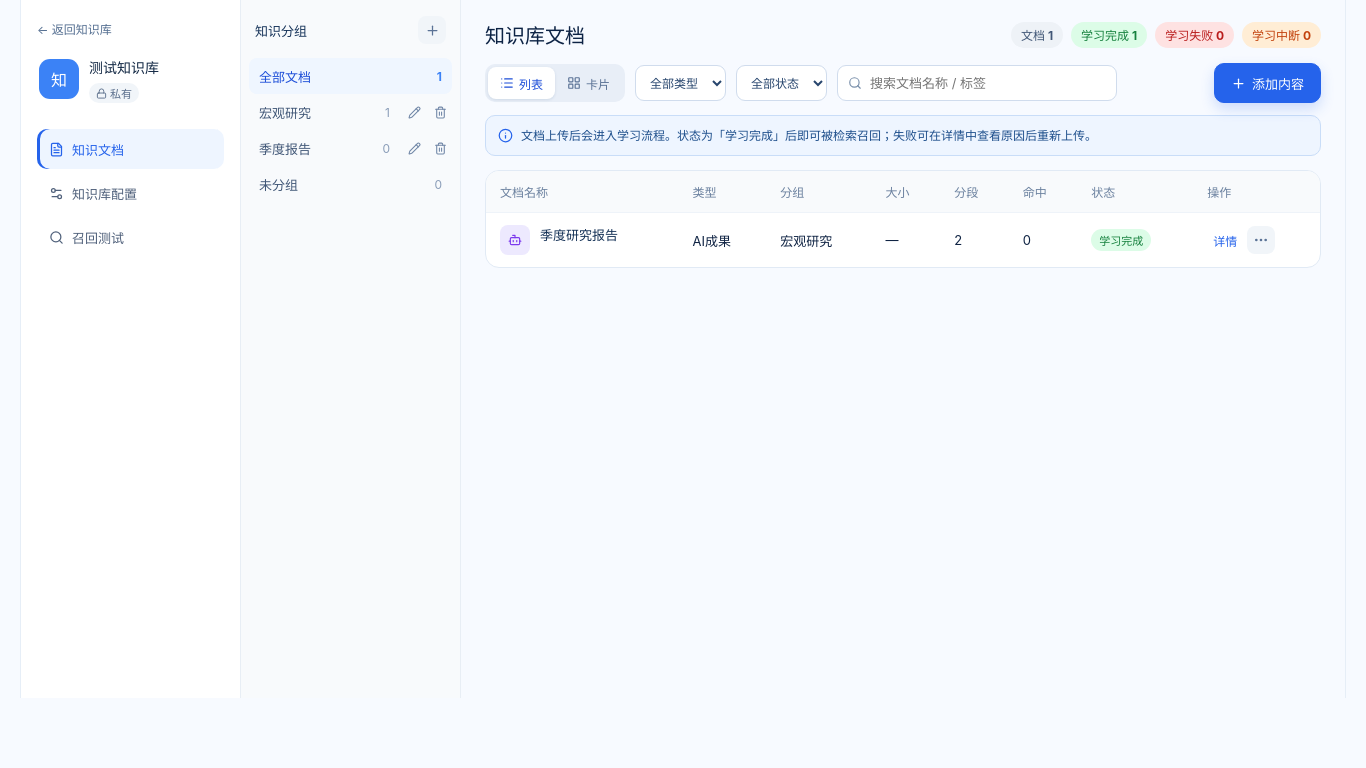
知识库自主分组 › 保存失败显示错误并保留输入，允许用户重试
expect the heading "知识库文档" is shown: met, box [485,20,585,49]
Click the button named "添加分组".
click(432, 30)  # box [418,16,446,44]
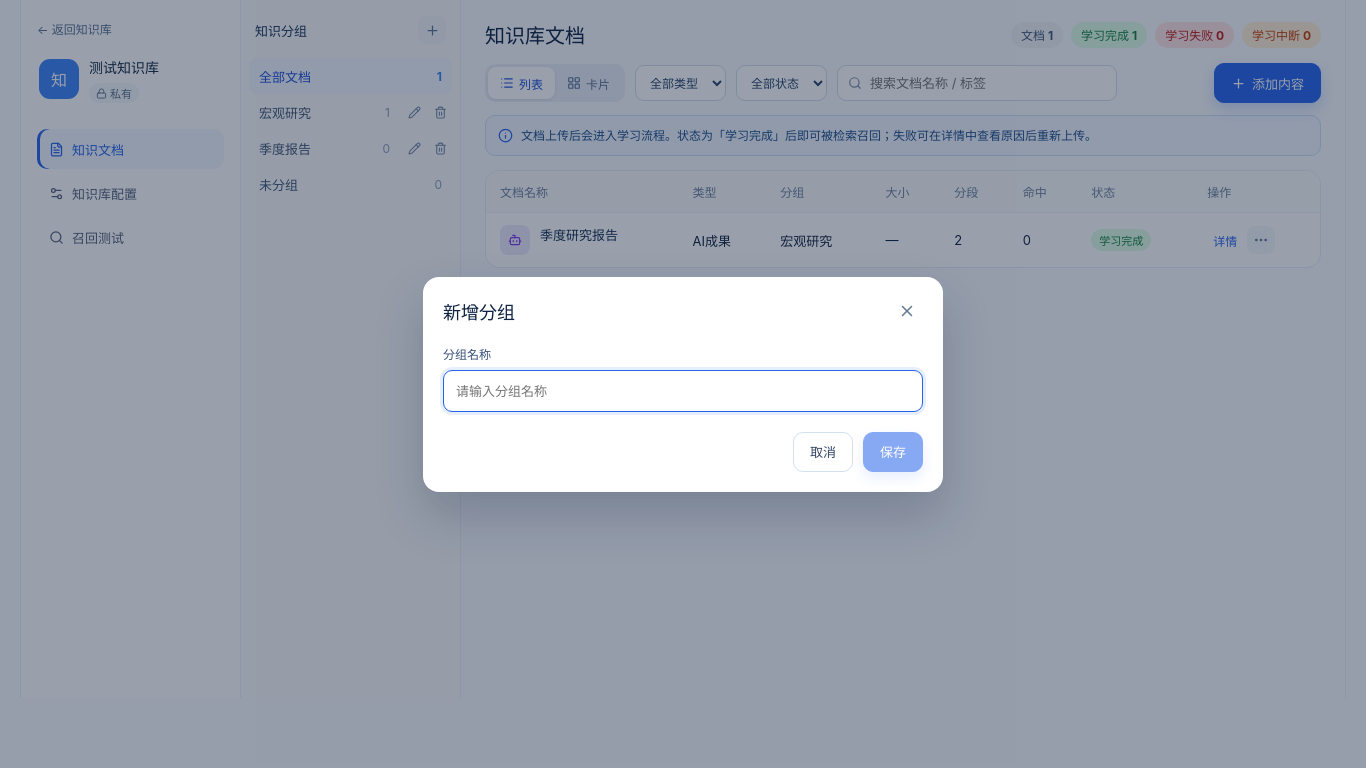
Type "宏观研究" into the field.
click(683, 390); type("宏观研究")  # box [443,370,923,412]
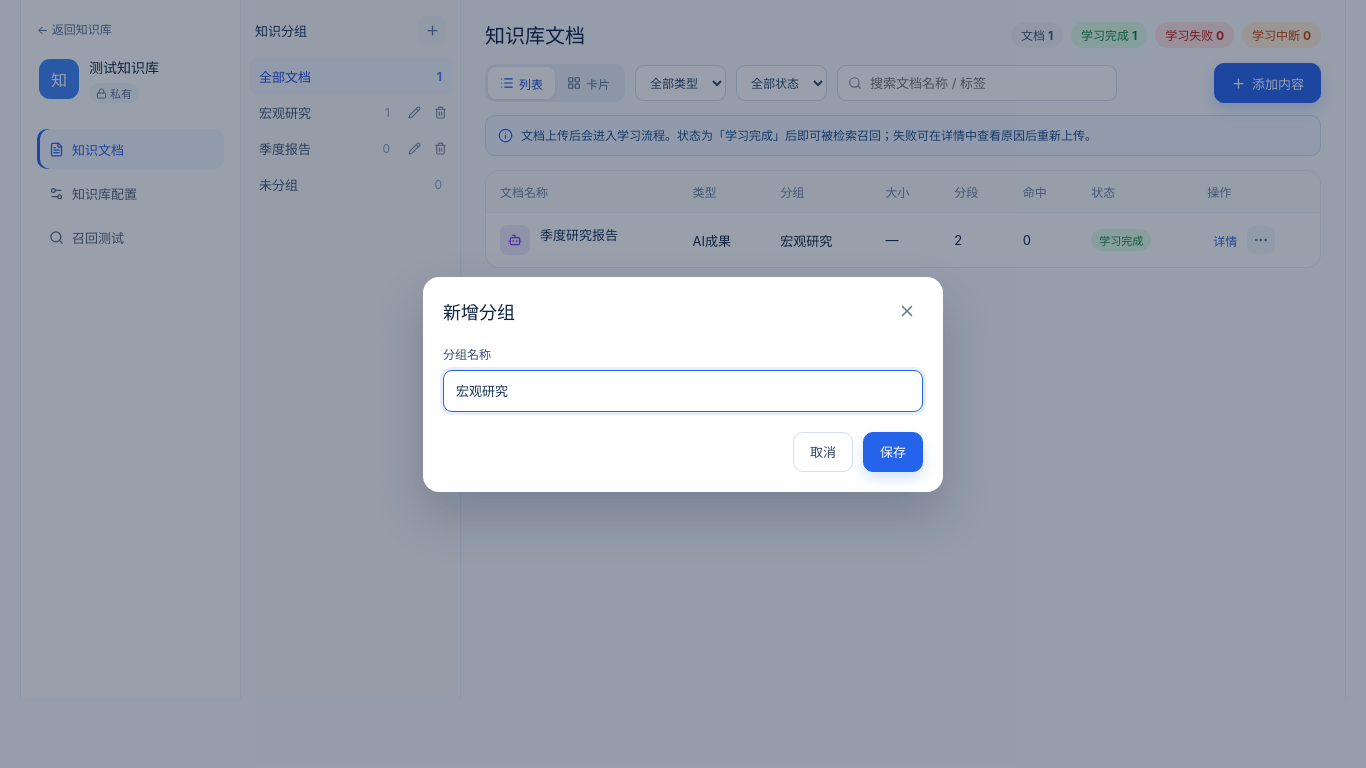
Click the button "保存".
click(893, 452)  # box [863,432,923,472]
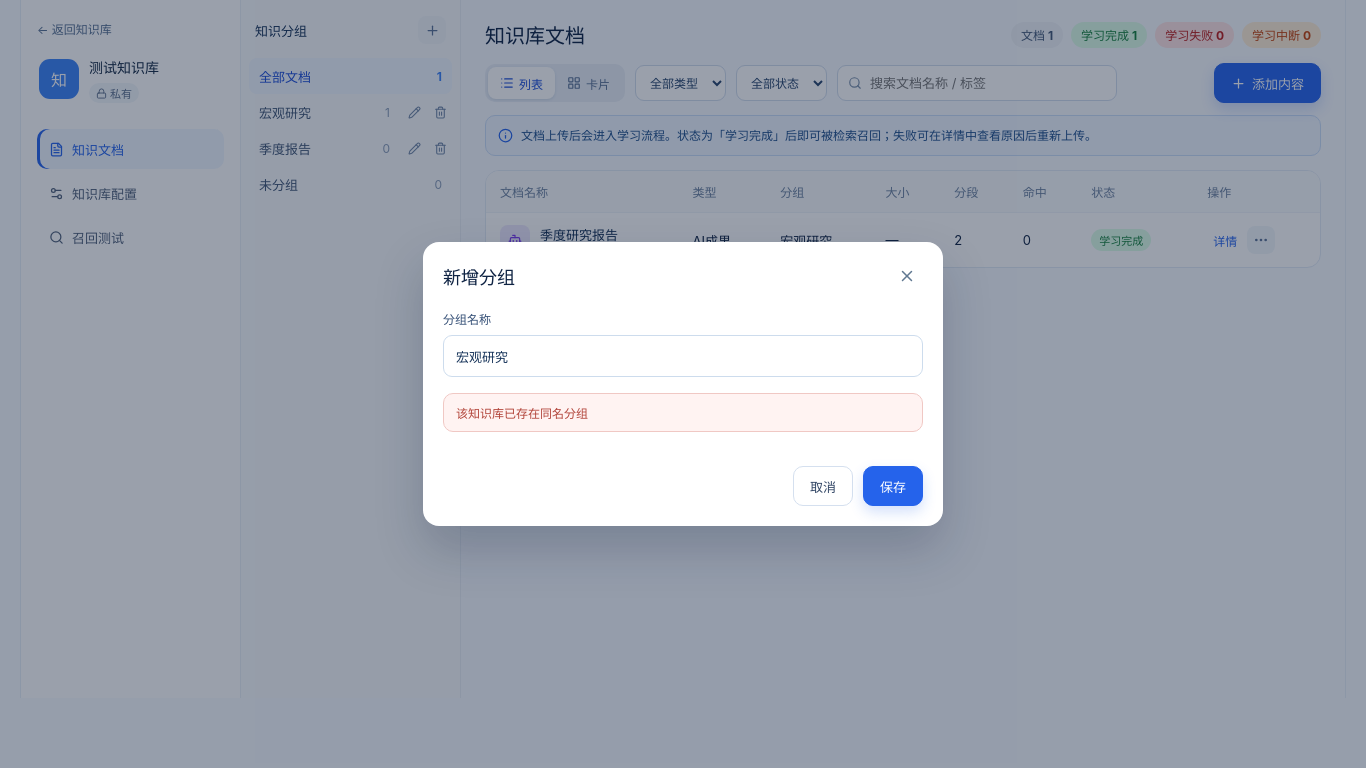
expect the message "该知识库已存在同名分组" is shown: met, box [443,393,923,432]
